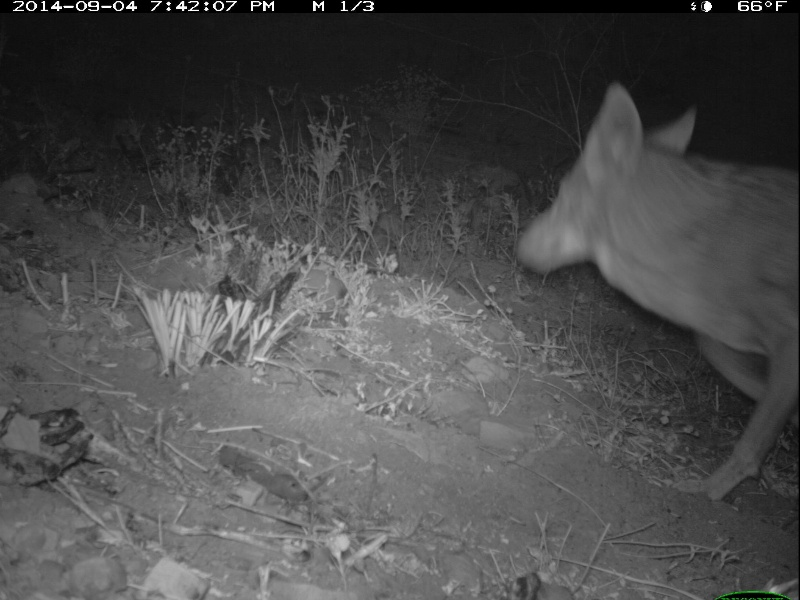coyote: (504, 80, 800, 519)
